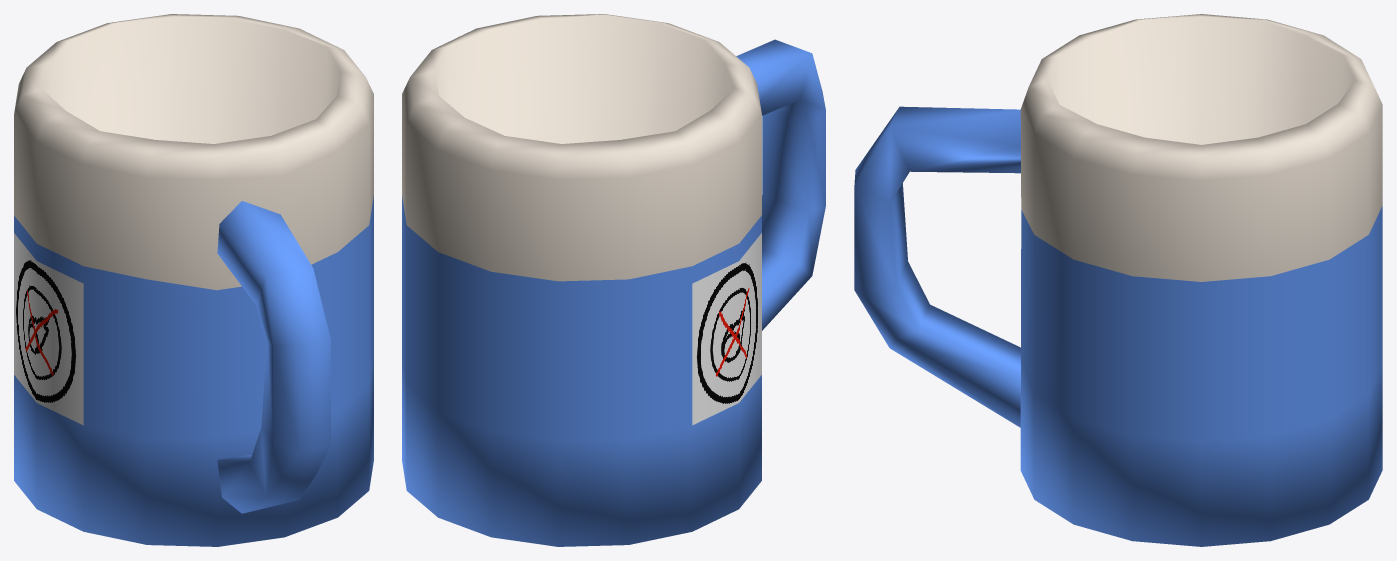
The model's file is Mug.glb.
3 renders of one model, left to right at view 1: azimuth 30°, elevation 25°; view 2: azimuth 150°, elevation 25°; view 3: azimuth 270°, elevation 25°, orthographic.
Parts seen in each view (by area): view 1: Mug; view 2: Mug; view 3: Mug.
Boxes of the visible parts, x1=… form: Mug: x1=14, y1=14, x2=373, y2=546; Mug: x1=402, y1=14, x2=825, y2=546; Mug: x1=854, y1=14, x2=1382, y2=546.
Size of the model in its own units: 0.2265 by 0.2696 by 0.3305.
1 material, 1 textured.
